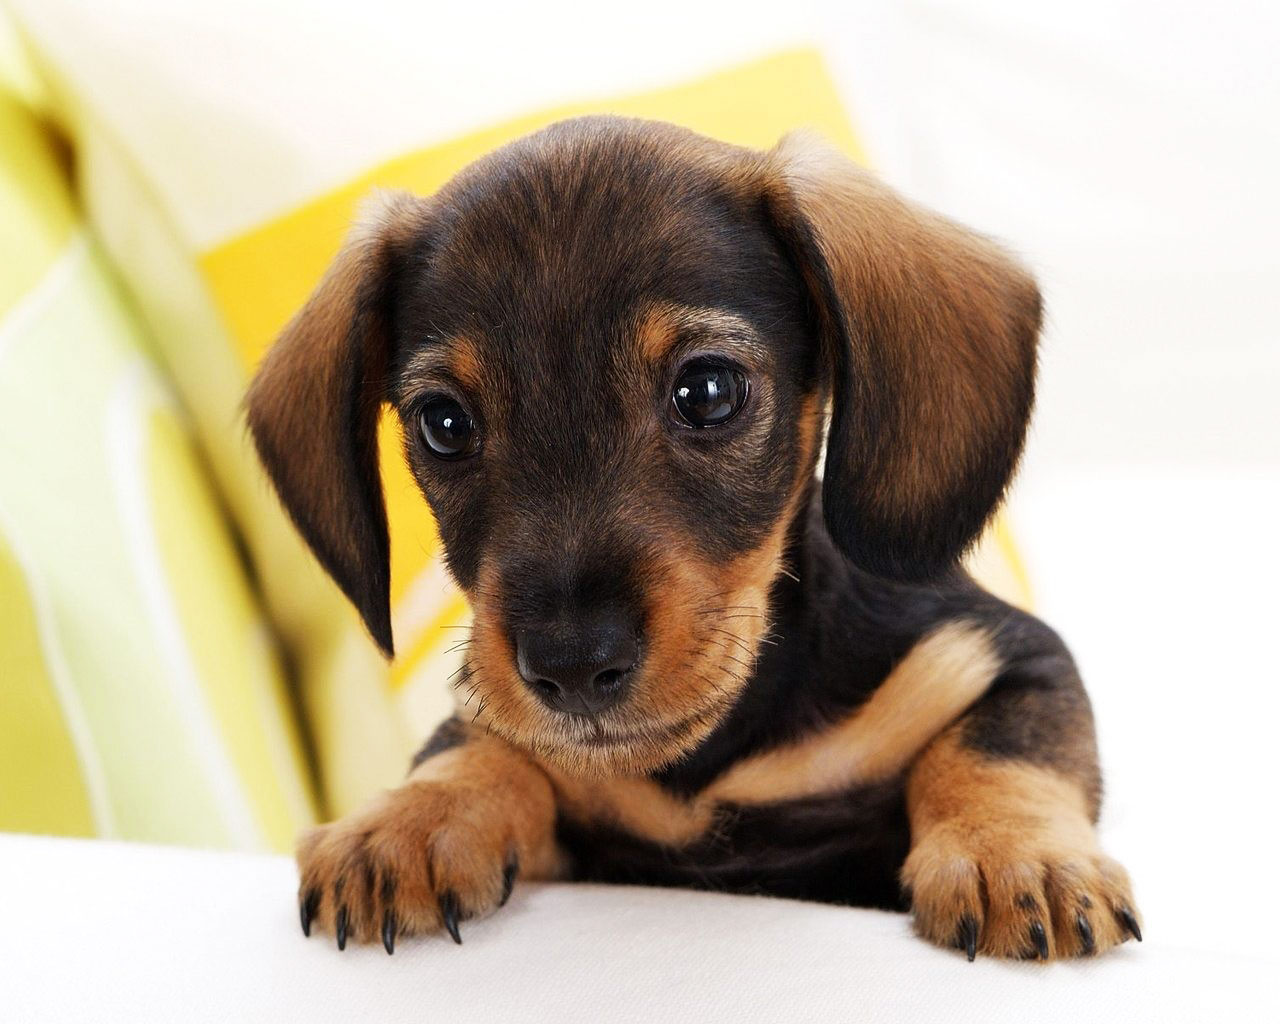dog: (133, 46, 1195, 972)
